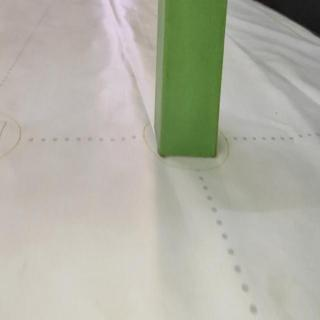greenbox: (153, 0, 229, 157)
